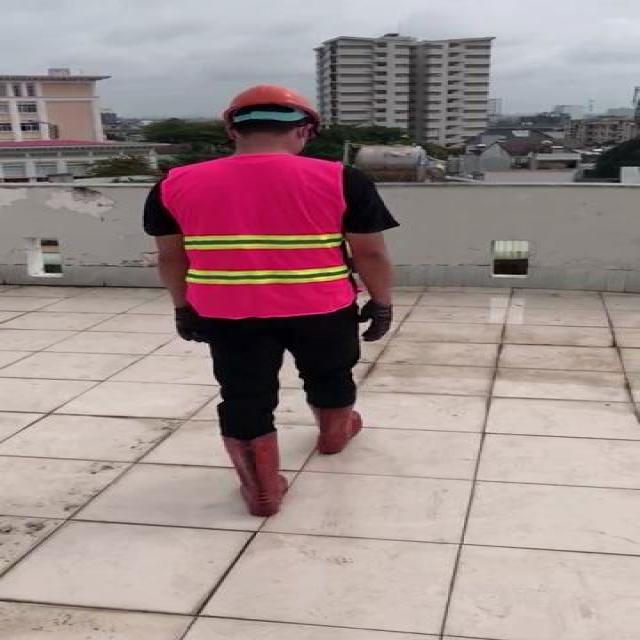boots: (217, 429, 291, 517), (314, 403, 364, 454)
hand_glove: (358, 301, 397, 343), (174, 308, 206, 342)
head_helmet: (220, 84, 324, 120)
person: (137, 78, 405, 521)
vest: (162, 153, 354, 319)
